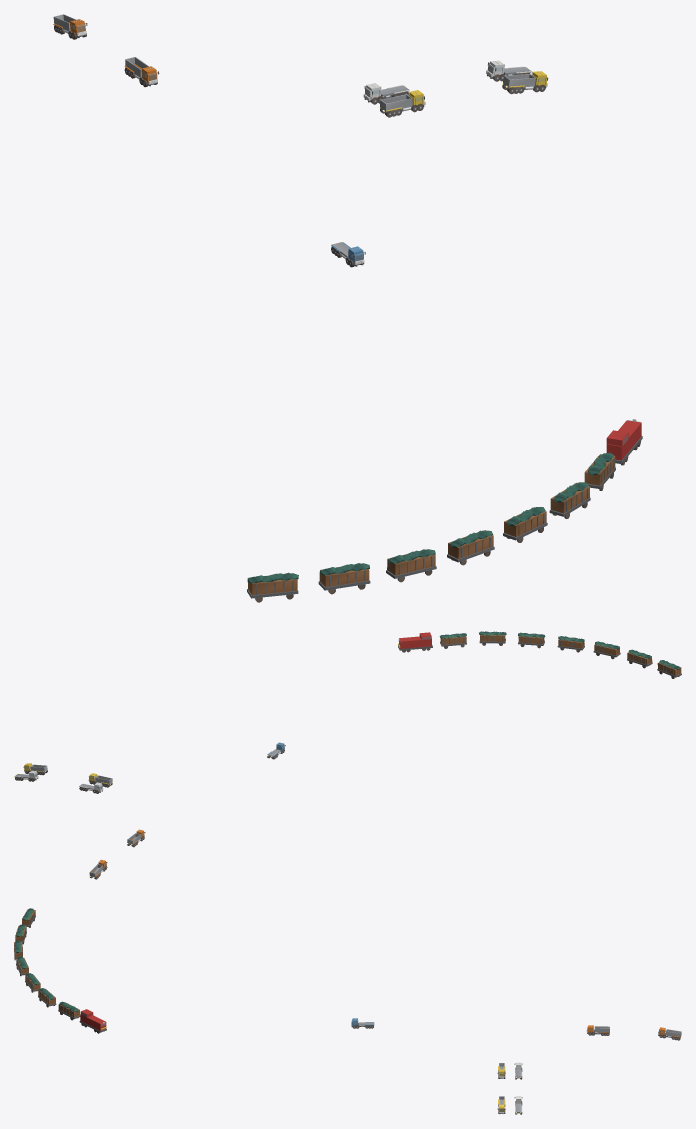
The model's file is Vehicles_P3.fbx.
The picture shows the model from 3 angles, top to bottom: view 1: azimuth 30°, elevation 25°; view 2: azimuth 150°, elevation 25°; view 3: azimuth 270°, elevation 25°; orthographic projection. The views are drawn at different scales.
Parts seen in each view (by area): view 1: wagon.005, wagon.006, wagon.004, train, wagon.003, wagon.002, wagon.001; view 2: train; view 3: train.
Part boxes in pixels (bbox=[...]): wagon.005: bbox=[318, 563, 370, 594]; wagon.006: bbox=[247, 572, 298, 602]; wagon.004: bbox=[386, 549, 436, 582]; train: bbox=[606, 419, 642, 465]; wagon.003: bbox=[447, 530, 494, 565]; wagon.002: bbox=[503, 507, 547, 542]; wagon.001: bbox=[549, 482, 590, 518]; train: bbox=[398, 632, 432, 652]; train: bbox=[79, 1009, 106, 1033].
Bounding box in the file's own units: 18933 × 965 × 28458.
